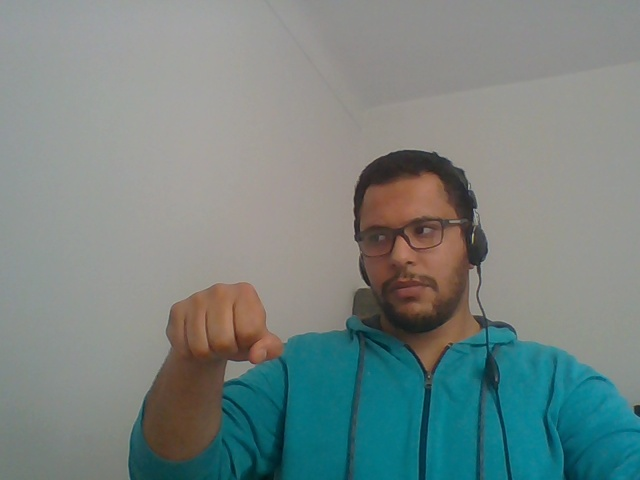yes: (139, 255, 305, 399)
